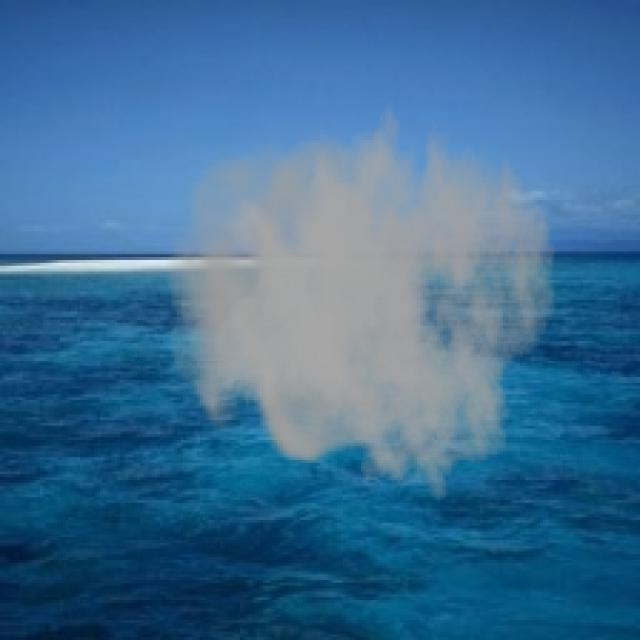smoke: (166, 83, 557, 500)
